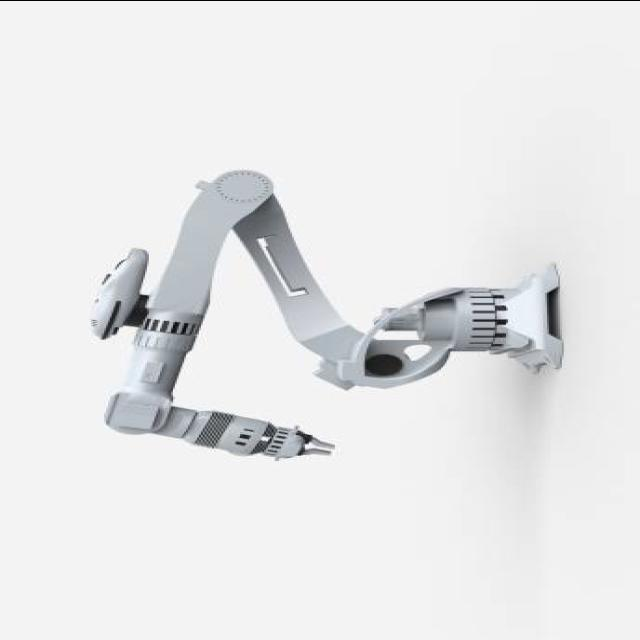Robotic-arm: (69, 168, 577, 464)
